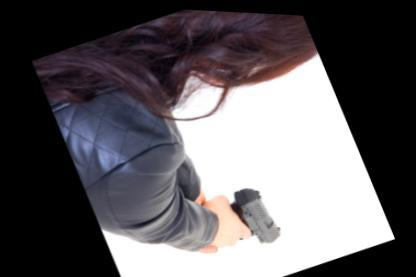pistol: (190, 165, 296, 270)
